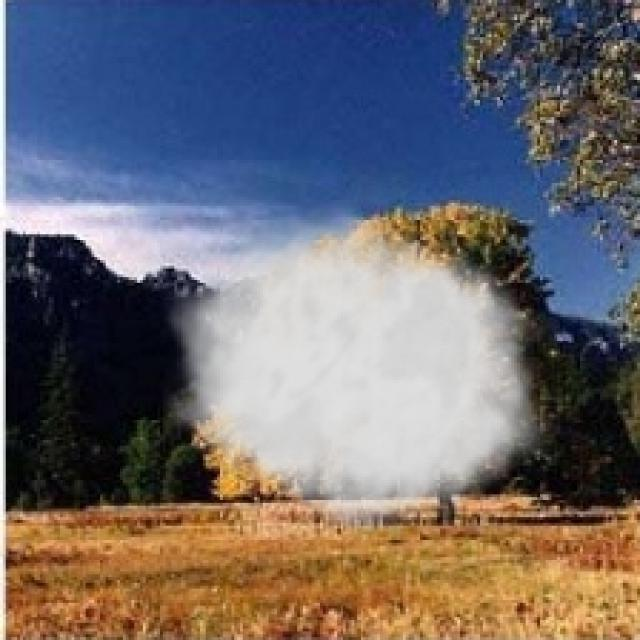Smoke: (162, 197, 558, 540)
